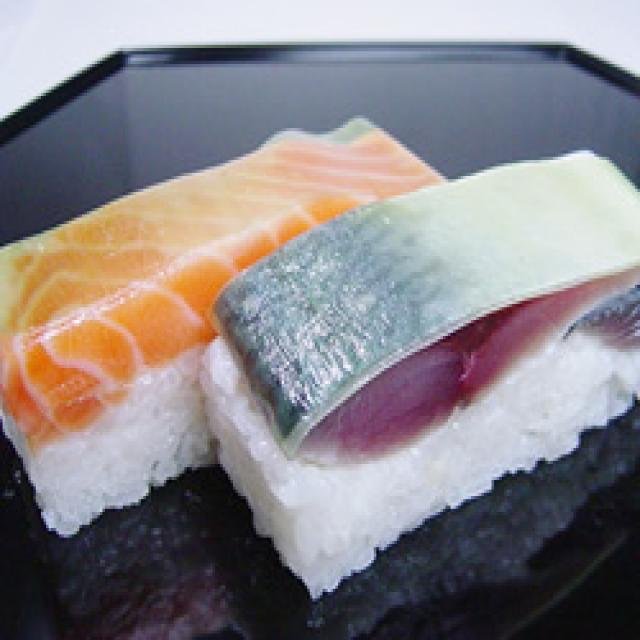寿司卷物: (0, 122, 640, 611)
